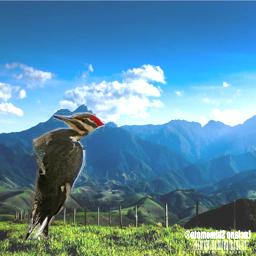Woodpecker: (24, 112, 105, 242)
